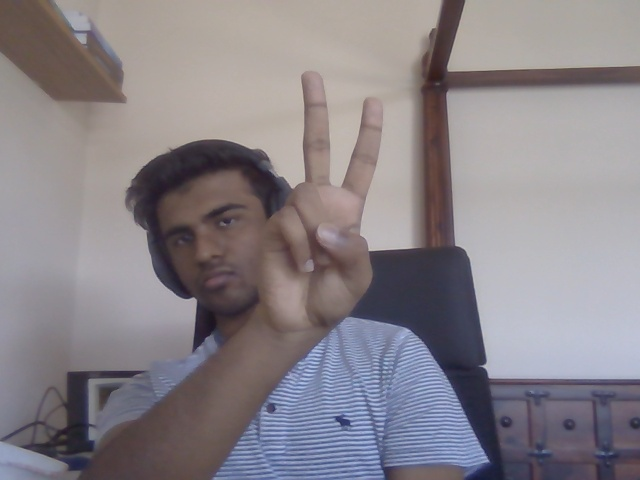Peace: (261, 70, 386, 326)
